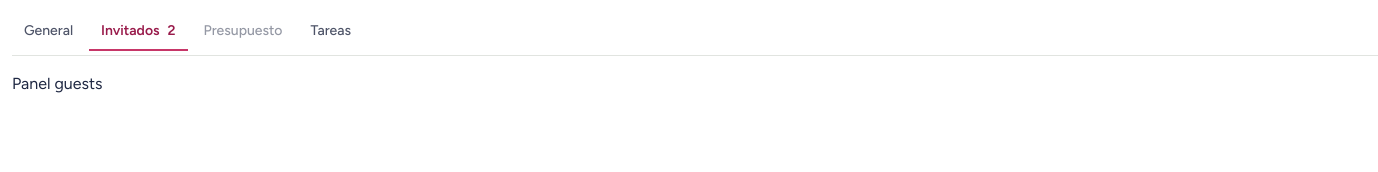
Test: PB-P2-031 · Tabs › modo controlado: el valor lo manda el consumidor
Check: the panel reads "Panel guests", box [12, 74, 102, 93]
Click the tab "Tareas": (331, 32) [298, 12, 363, 51]
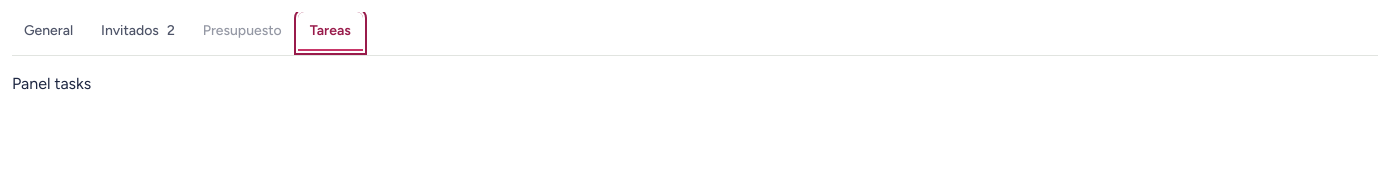
Check: the panel reads "Panel tasks", box [12, 74, 91, 93]
